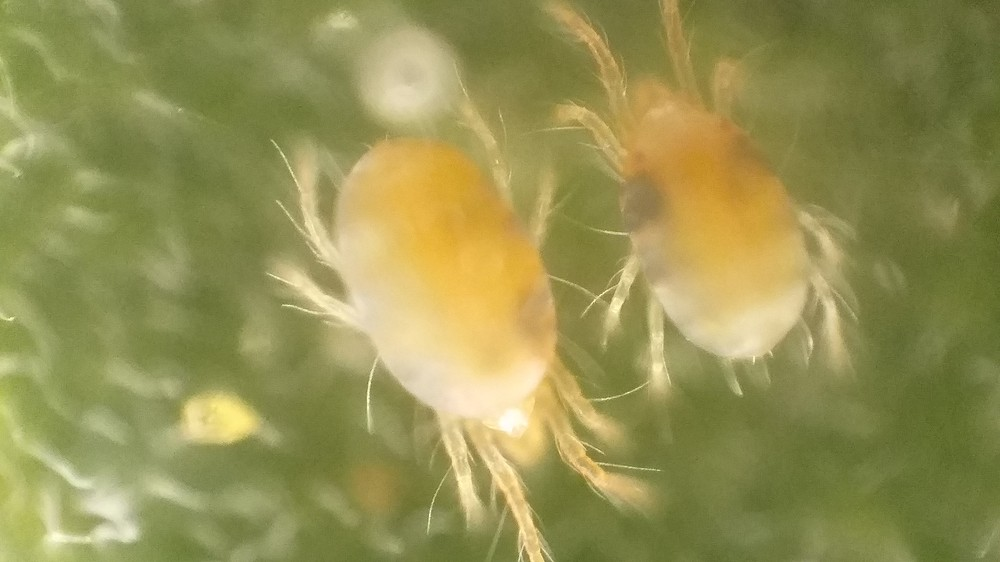Aracnido Rojo: (264, 103, 644, 561), (552, 8, 868, 415)
